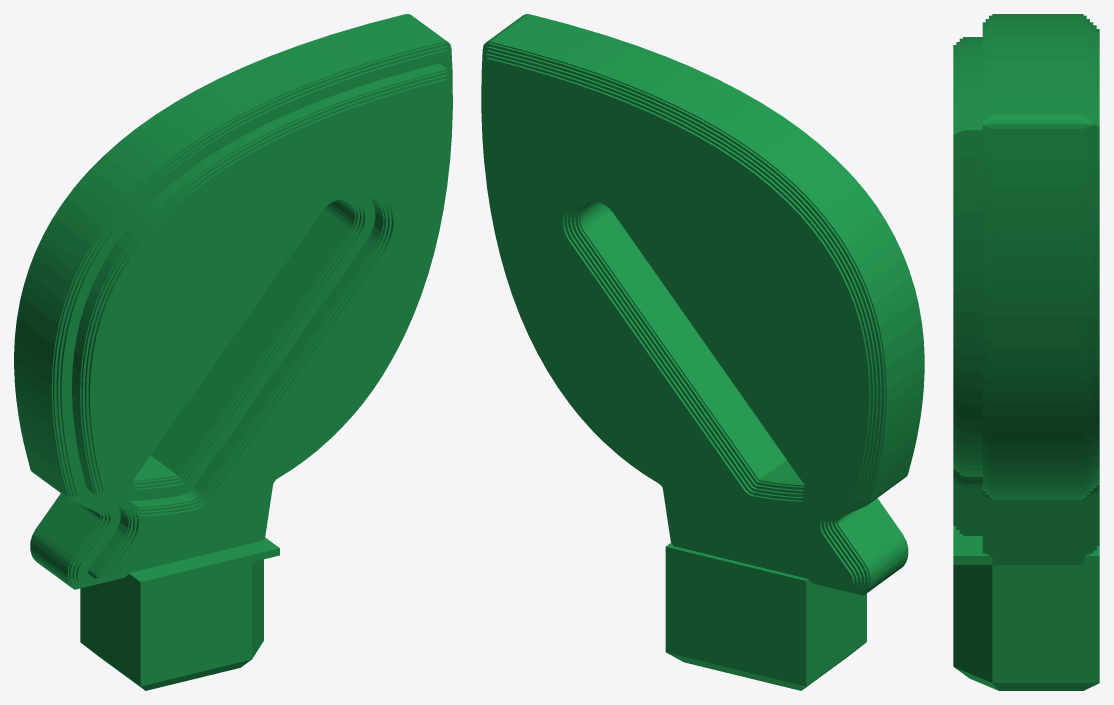
The model's file is glyph-plant@plant.glb.
The picture shows the model from 3 angles, left to right: view 1: azimuth 30°, elevation 25°; view 2: azimuth 150°, elevation 25°; view 3: azimuth 270°, elevation 25°; orthographic projection. The views are drawn at different scales.
Parts seen in each view (by area): view 1: geometry_0; view 2: geometry_0; view 3: geometry_0.
Boxes of the visible parts, box(x1,y1,x2,y2) form: geometry_0: box(14, 14, 452, 690); geometry_0: box(481, 14, 924, 690); geometry_0: box(953, 14, 1099, 690).
Bounding box in the file's own units: 17.28 × 23.37 × 4.5.
